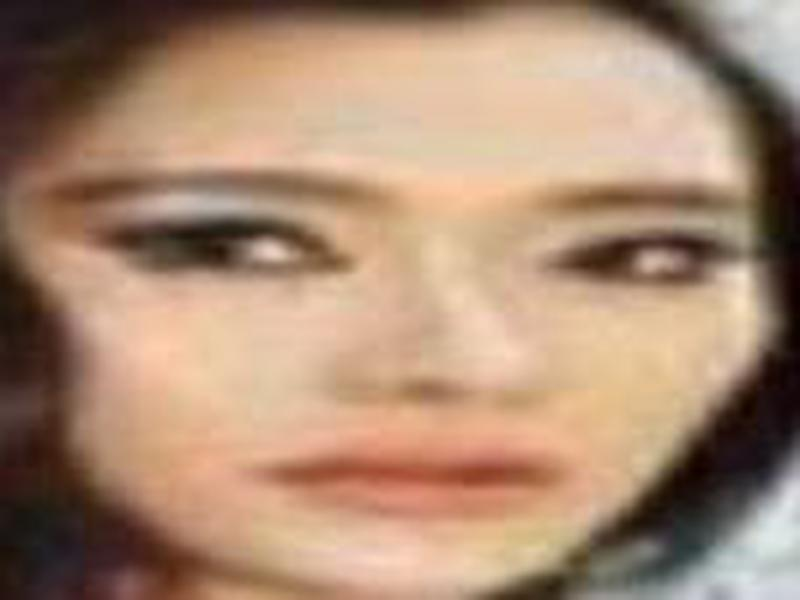without_mask: (34, 27, 763, 595)
